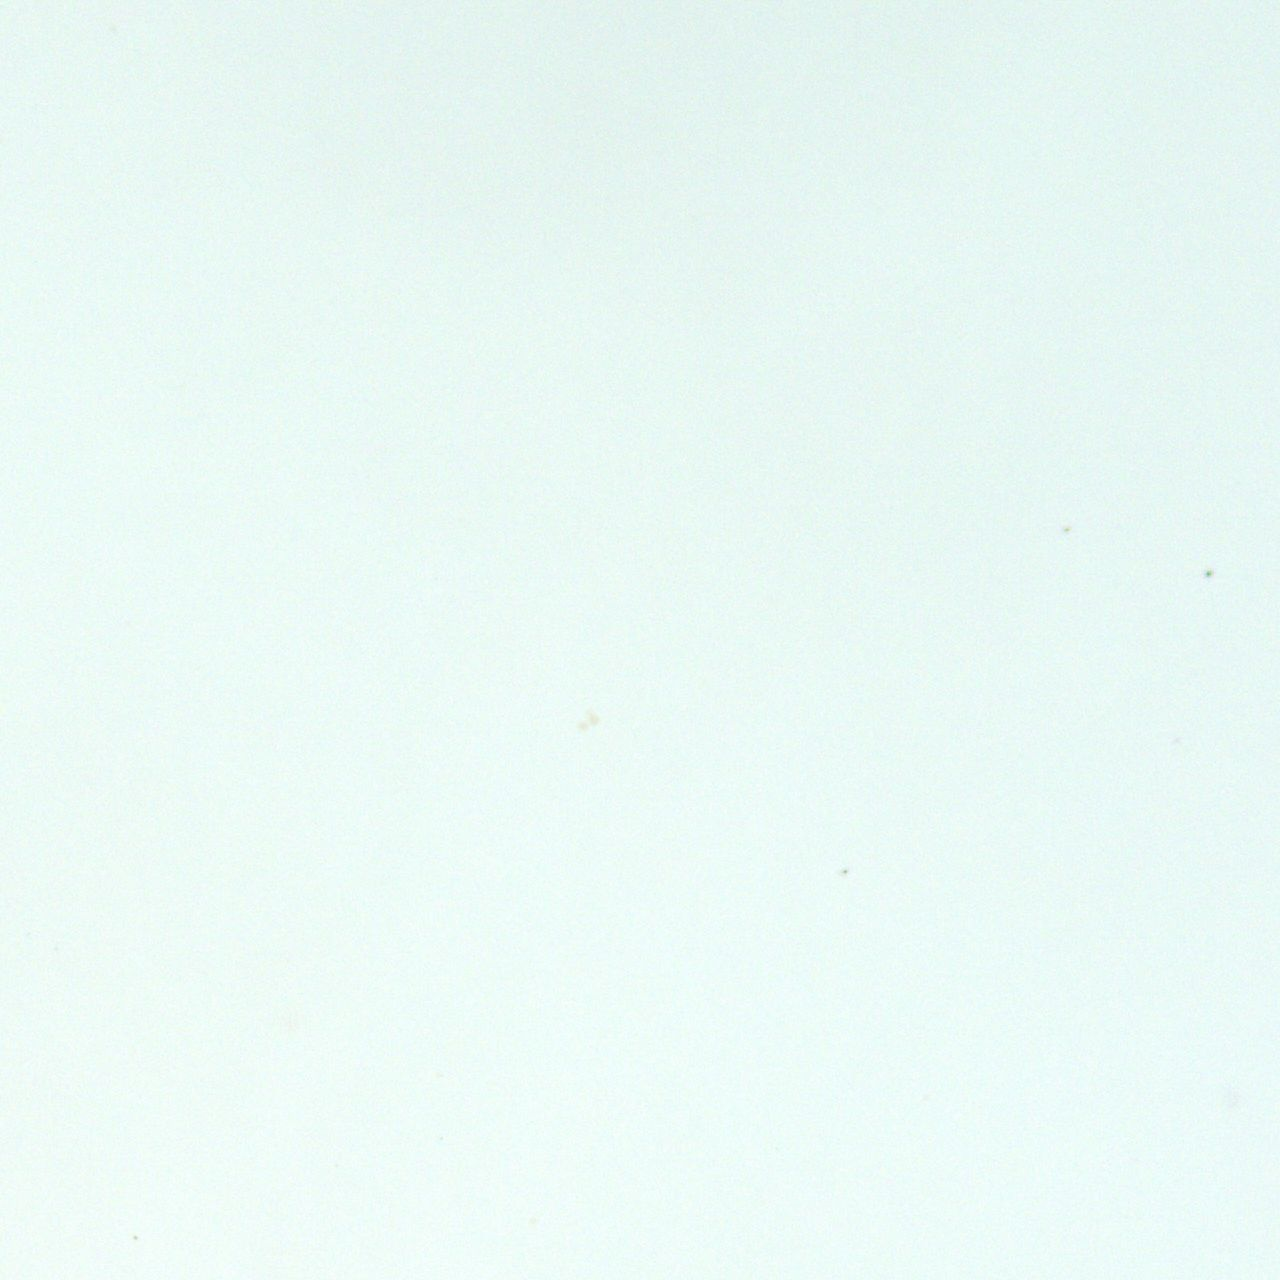dust: (1204, 567, 1212, 577), (1062, 525, 1070, 533), (840, 866, 847, 874)
